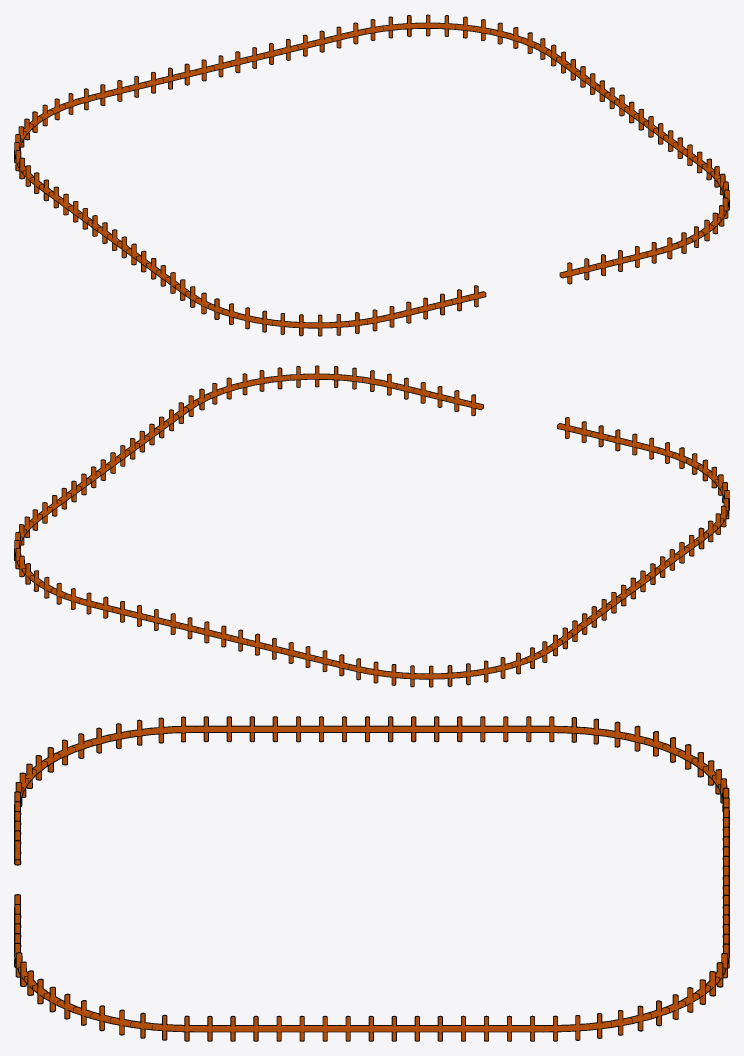
File: Fence2.fbx
3 renders of one model, top to bottom at view 1: azimuth 30°, elevation 25°; view 2: azimuth 150°, elevation 25°; view 3: azimuth 270°, elevation 25°, orthographic. The views are drawn at different scales.
Parts seen in each view (by area): view 1: FencePart4, FencePart3; view 2: FencePart4, FencePart3; view 3: FencePart4, FencePart3.
Part boxes in pixels (x1=…): FencePart4: x1=14, y1=14, x2=729, y2=336; FencePart3: x1=559, y1=237, x2=678, y2=284; FencePart4: x1=14, y1=365, x2=729, y2=687; FencePart3: x1=362, y1=370, x2=483, y2=416; FencePart4: x1=14, y1=716, x2=729, y2=1041; FencePart3: x1=14, y1=894, x2=22, y2=977.
Size of the model in its own units: 59.59 by 59.6 by 2.16.
